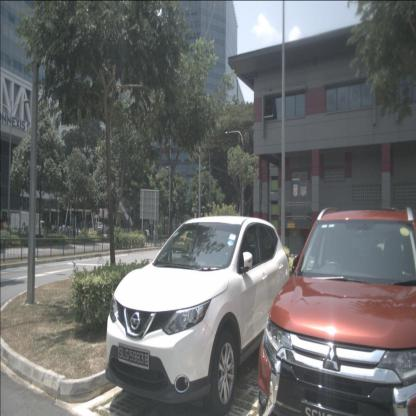human-pedestrian-adult: (153, 228, 158, 244), (146, 228, 150, 244), (66, 224, 70, 238), (62, 223, 65, 238), (54, 224, 57, 235), (51, 224, 54, 235), (70, 224, 72, 239), (156, 228, 158, 243), (58, 224, 60, 235), (59, 225, 61, 236), (56, 224, 58, 233)
vehicle-car: (105, 214, 291, 416), (258, 206, 415, 415), (96, 224, 108, 235)
vehicle-truck: (10, 212, 46, 242)
